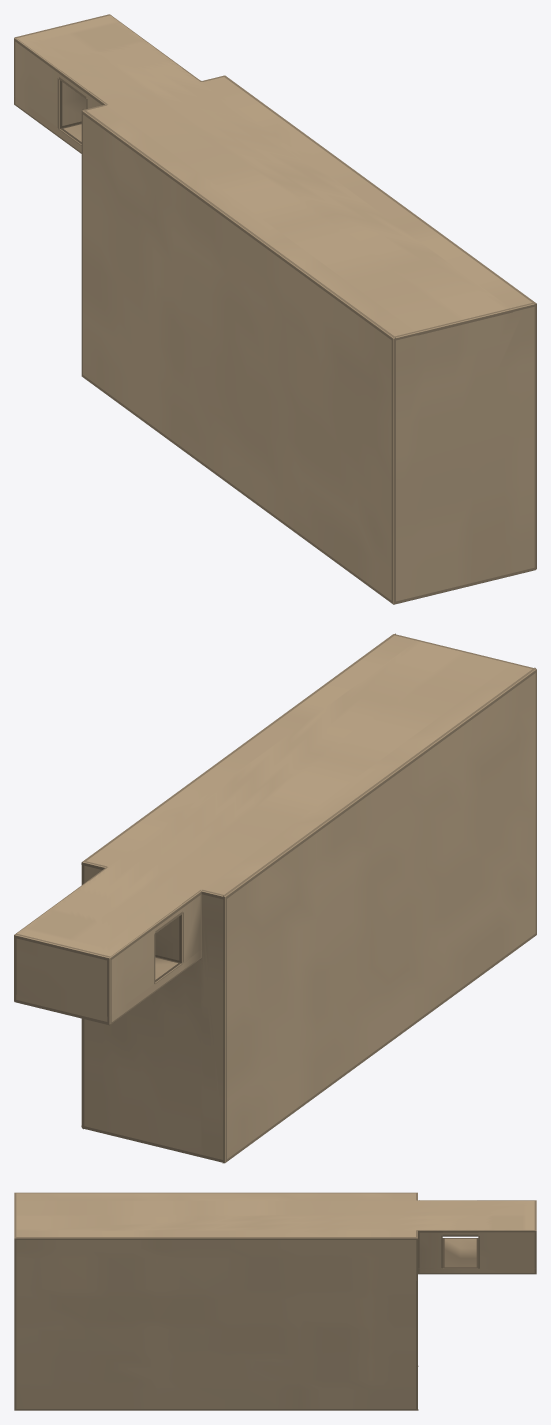
File: beam-zp.glb
3 views of the same model, one above another, from view 1: azimuth 30°, elevation 25°; view 2: azimuth 150°, elevation 25°; view 3: azimuth 270°, elevation 25° (orthographic). The views are drawn at different scales.
Parts seen in each view (by area): view 1: beam-zp; view 2: beam-zp; view 3: beam-zp.
Part boxes in pixels (x1,y1,x2,y2): beam-zp: (14, 14, 536, 604); beam-zp: (14, 633, 536, 1163); beam-zp: (14, 1192, 536, 1410).
Size of the model in its own units: 0.0908 by 0.1616 by 0.4408.
